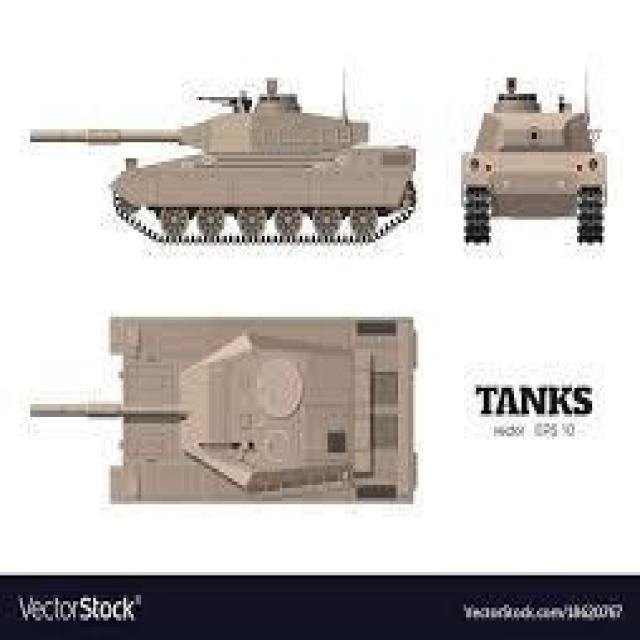MIL_MBT: (28, 296, 426, 512), (29, 78, 417, 255), (461, 84, 610, 255)
